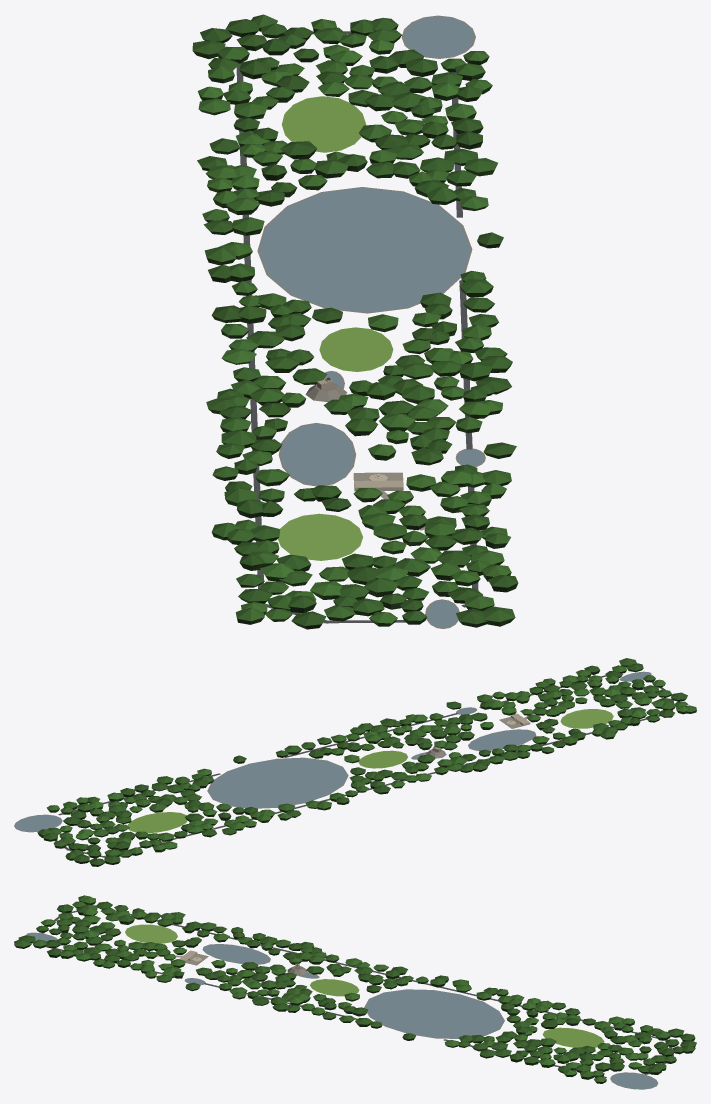
The picture shows the model from 3 angles, top to bottom: view 1: azimuth 30°, elevation 25°; view 2: azimuth 150°, elevation 25°; view 3: azimuth 270°, elevation 25°; orthographic projection. The views are drawn at different scales.
Visible parts, largest first — view 1: central-park-lod0; view 2: central-park-lod0; view 3: central-park-lod0.
Boxes of the visible parts, <box> form: central-park-lod0: <box>192,14,518,629</box>; central-park-lod0: <box>14,658,696,866</box>; central-park-lod0: <box>14,895,696,1089</box>.
Bounding box in the file's own units: 2576 × 48.7 × 3873.
